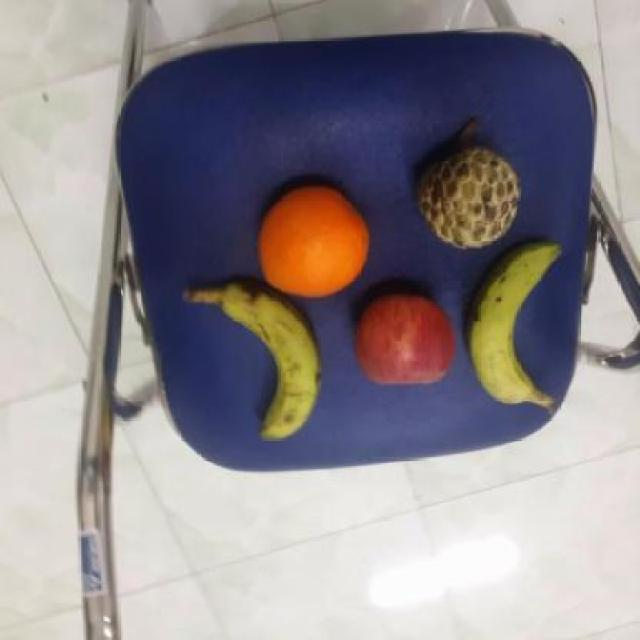apple: (352, 290, 456, 392)
banana: (208, 279, 335, 446), (463, 238, 566, 412)
oren: (253, 179, 370, 299)
sugar apple: (412, 144, 522, 250)
